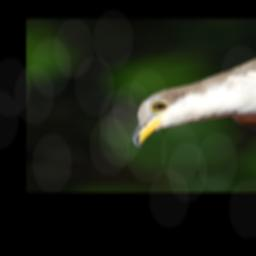Cuckoo: (113, 31, 256, 164)
